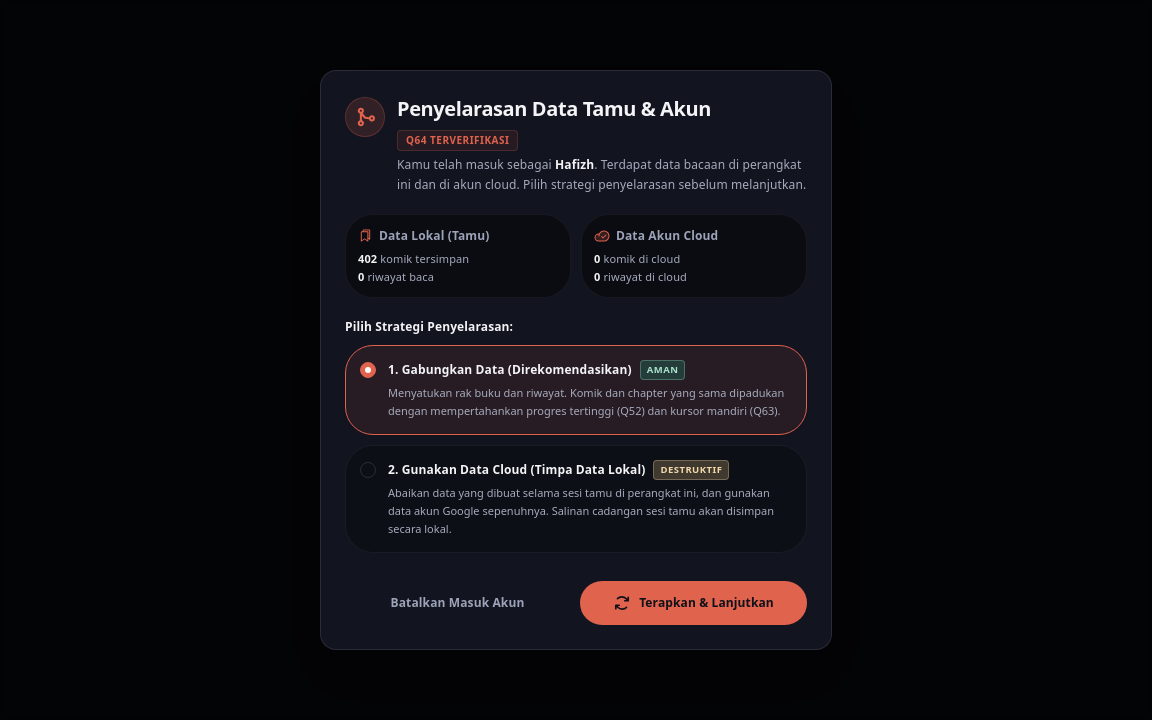
GuestMergeDialog Production Regression Suite (Q64 & Q127) › blocks repeat merge after a partial cloud commit until a fresh cloud snapshot is read
Click the button "Terapkan & Lanjutkan".
click(694, 603)  # box [580,581,807,625]
(page scrolled)
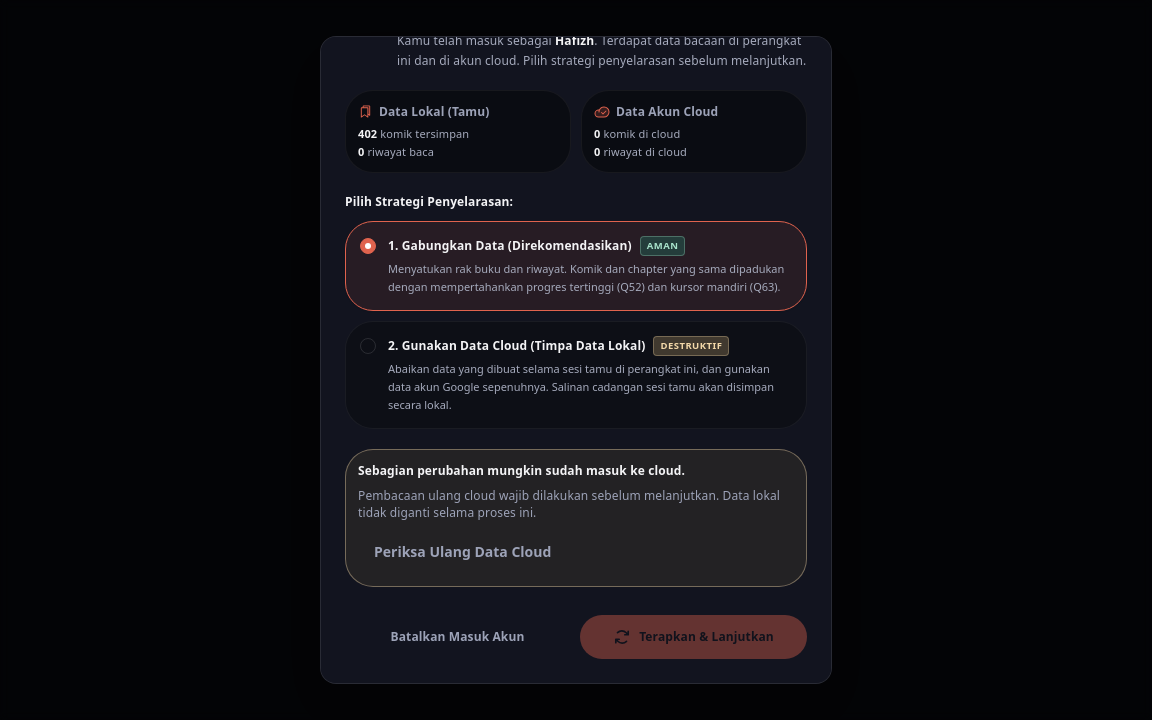
Result: the text "Sebagian perubahan mungkin sudah masuk ke cloud." is shown at [358,462,685,478]
Result: the button "Periksa Ulang Data Cloud" is shown at [358,530,567,574]
Result: the button "Terapkan & Lanjutkan" is disabled at [580,615,807,659]
